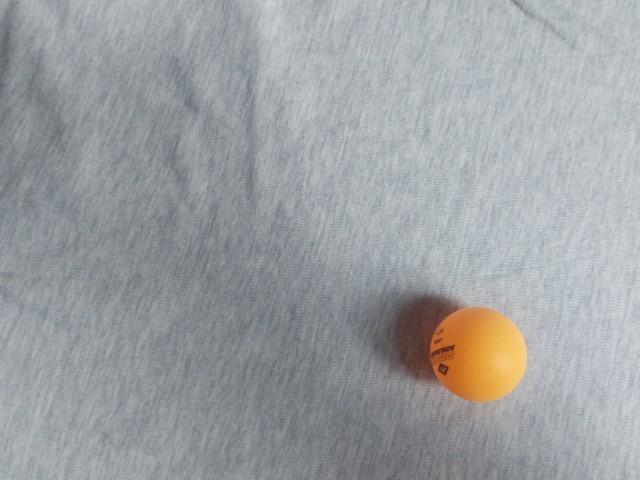oball: (103, 70, 218, 179)
